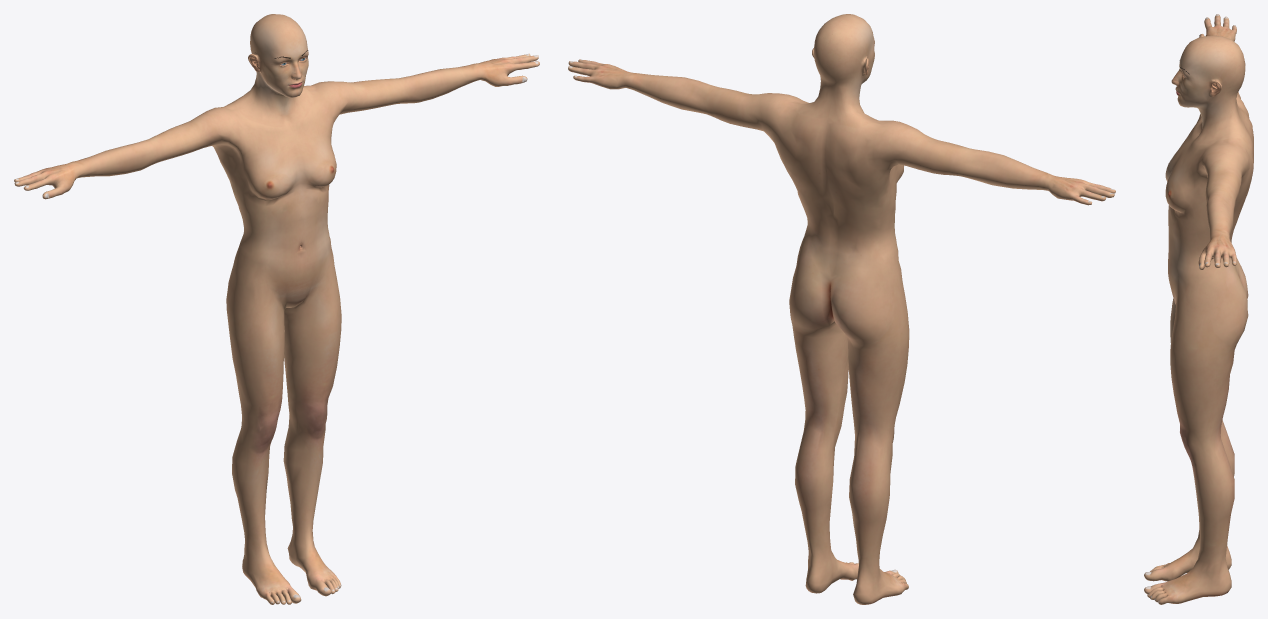
File: testentity-human.obj
3 views of the same model, side by side, from view 1: azimuth 30°, elevation 25°; view 2: azimuth 150°, elevation 25°; view 3: azimuth 270°, elevation 25° (orthographic). The views are drawn at different scales.
Size of the model in its own units: 16.37 by 16.7 by 3.03.
Materials: 1 (1 with a texture image).
